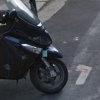Motorcycle: (2, 4, 85, 92)
